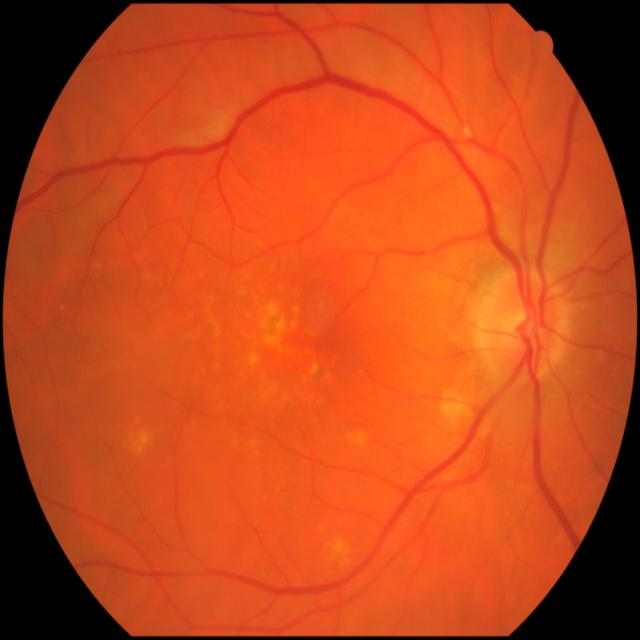OC: (517, 308, 534, 328)
OD: (480, 272, 569, 381)
